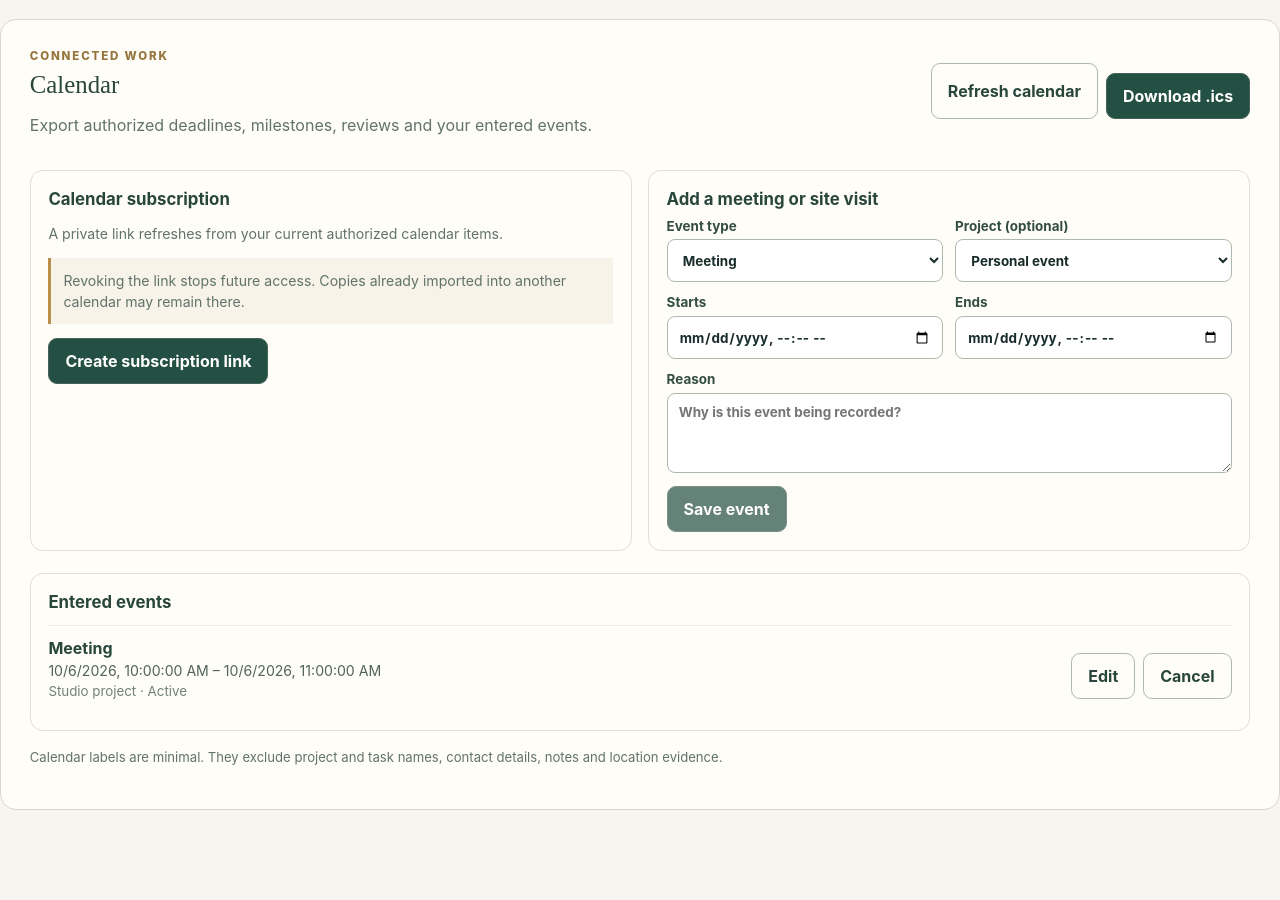
Scenario: calendar integrations › shows a safe conflict and keeps the event available for refresh
The image size is (1280, 900).
Click the button "Edit" at (1103, 676), box x1=1071 y1=653 x2=1135 y2=699
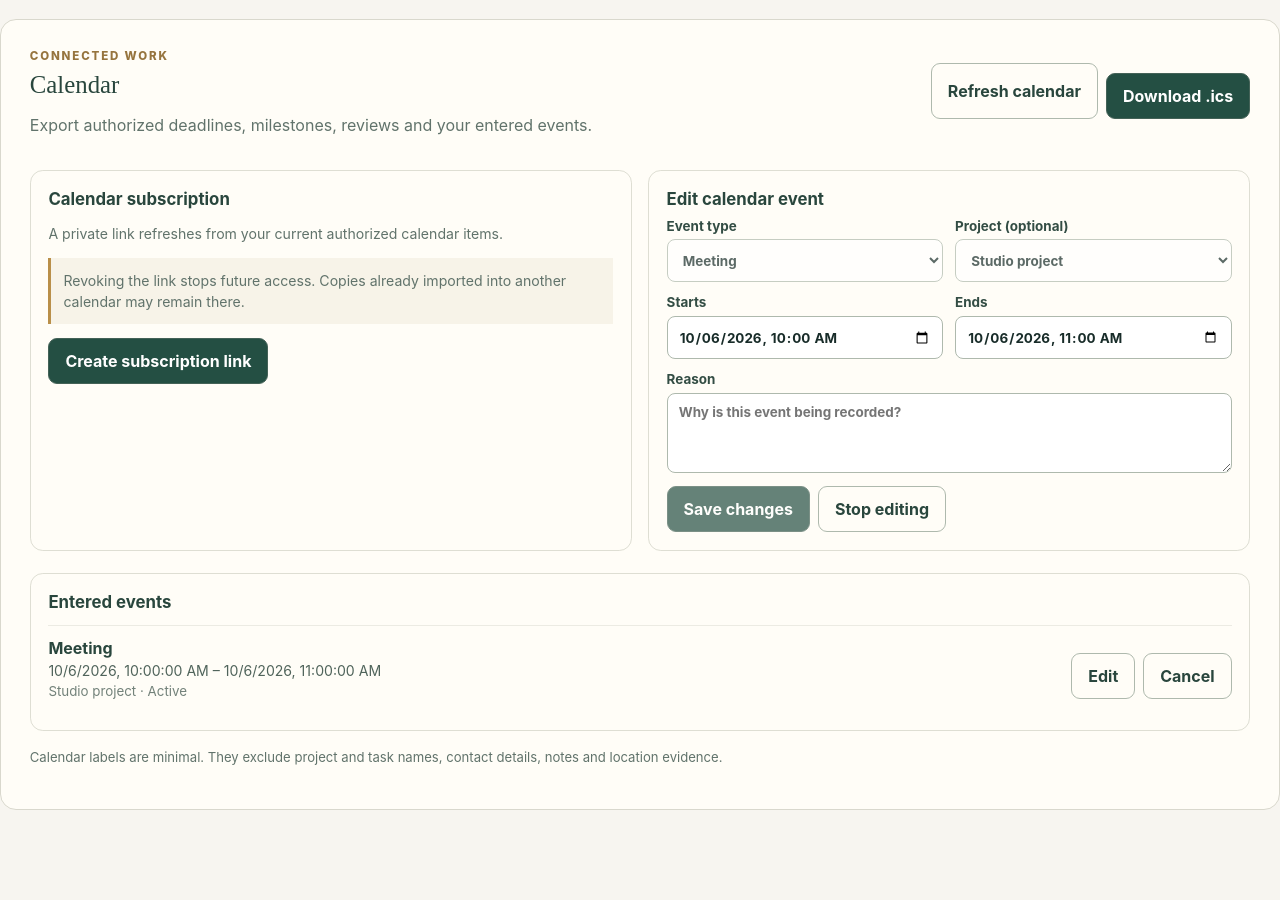
Type "Move the meeting" into the text box labelled "Reason" at (949, 433), box x1=667 y1=393 x2=1232 y2=473
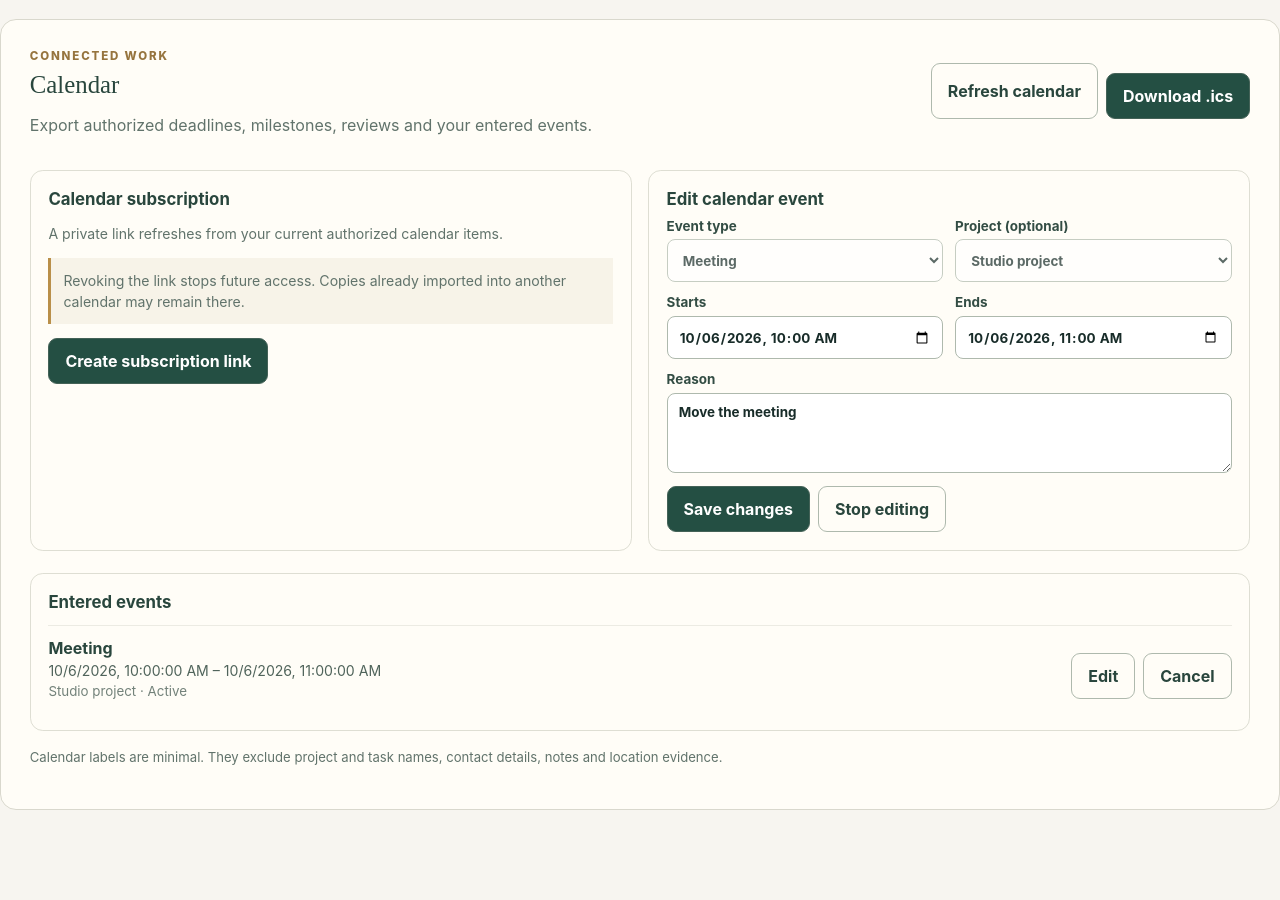
Click the button "Save changes" at (738, 509), box x1=667 y1=486 x2=810 y2=532
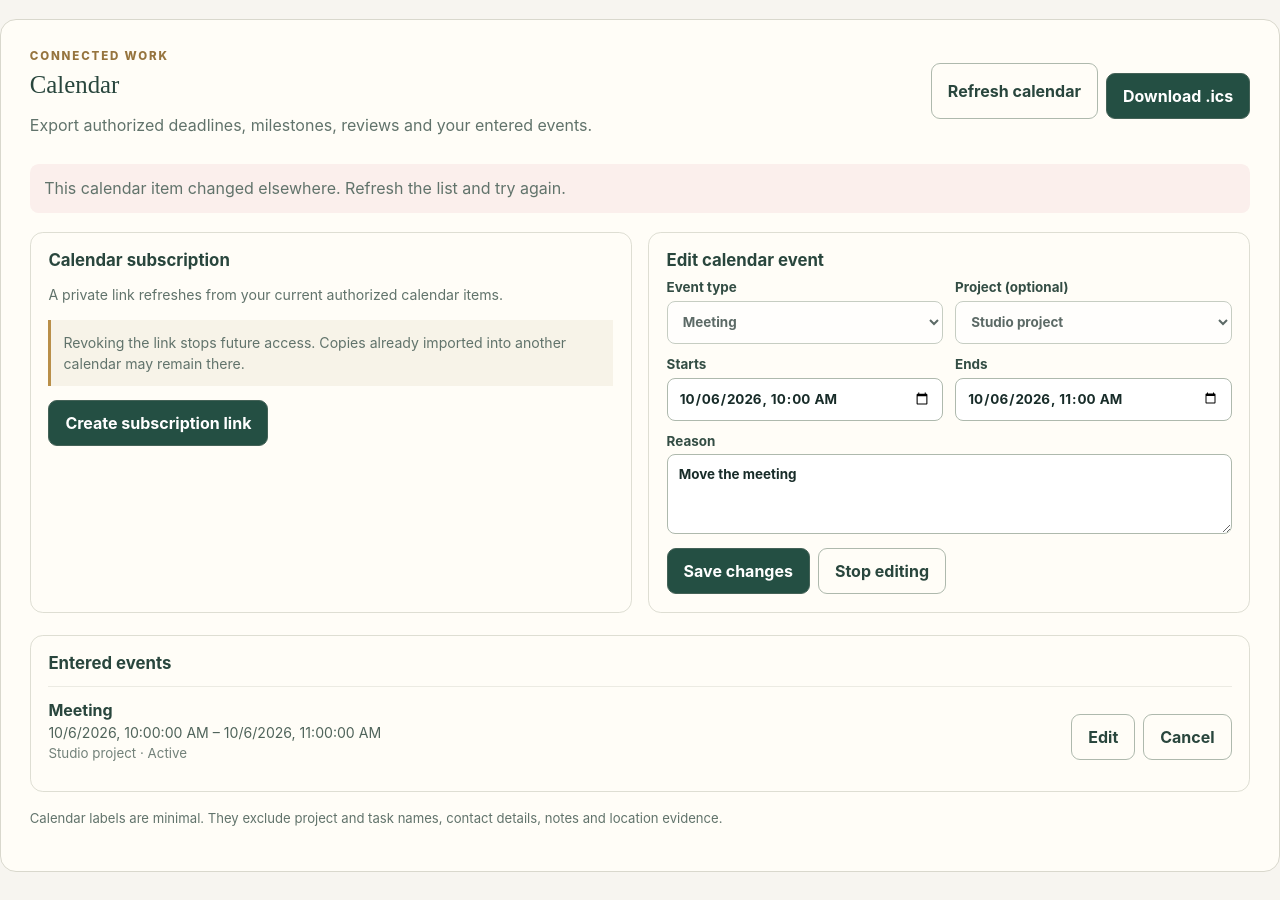
Now the message reads "This calendar item changed elsewhere. Refresh the list and try again.", box x1=44 y1=178 x2=566 y2=198
